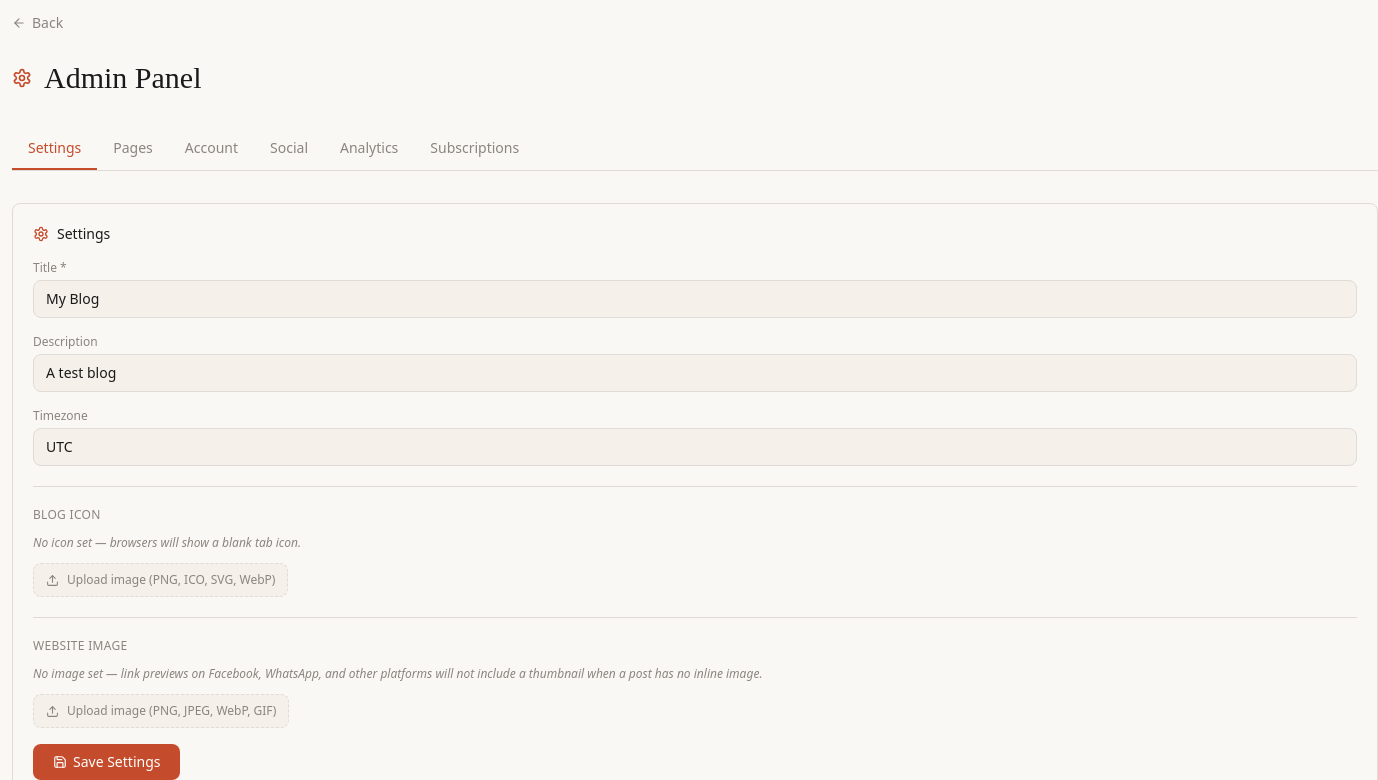
Test: AdminPage › validates title is required before saving site settings
The image size is (1378, 780).
Clear the field labelled "Title *" at (695, 299), box [33,280,1357,318]
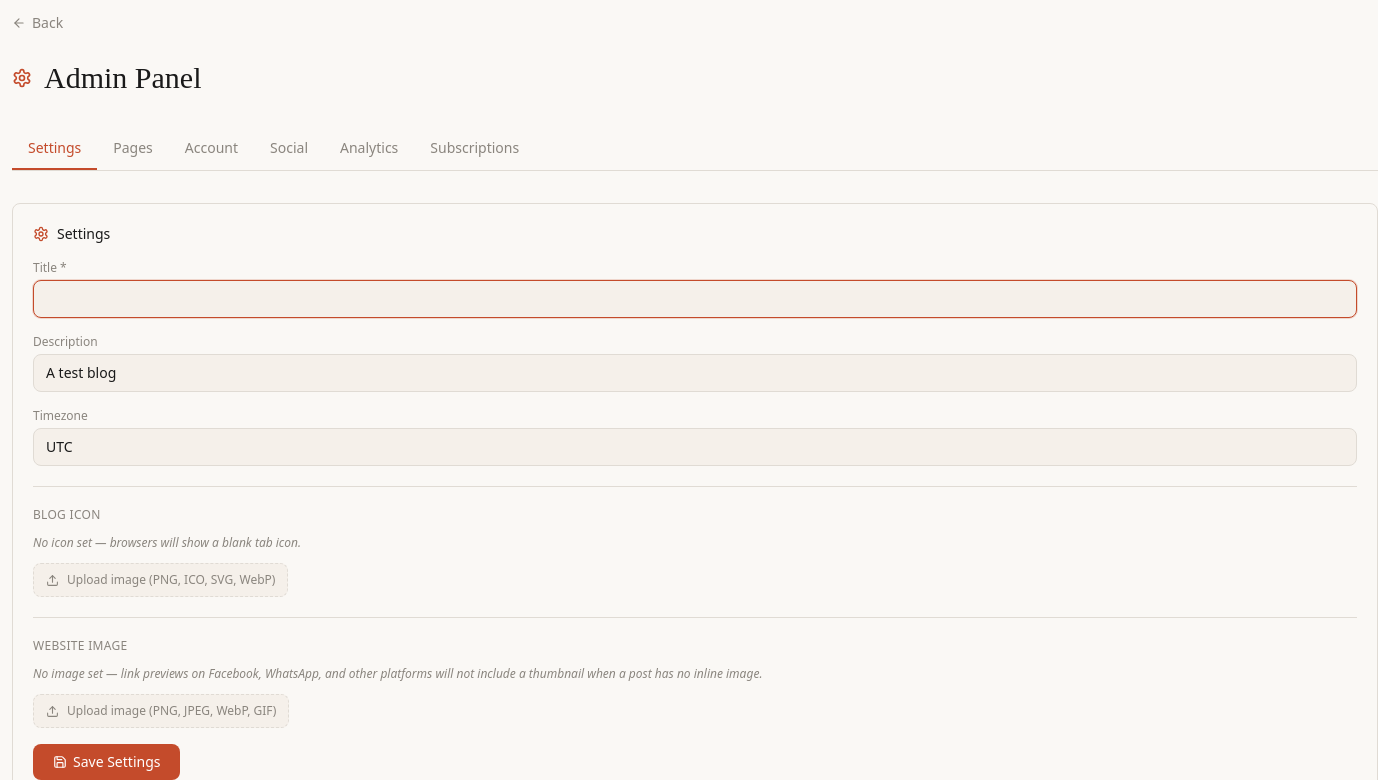
Click the button "Save Settings" at (107, 762), box [33,744,180,779]
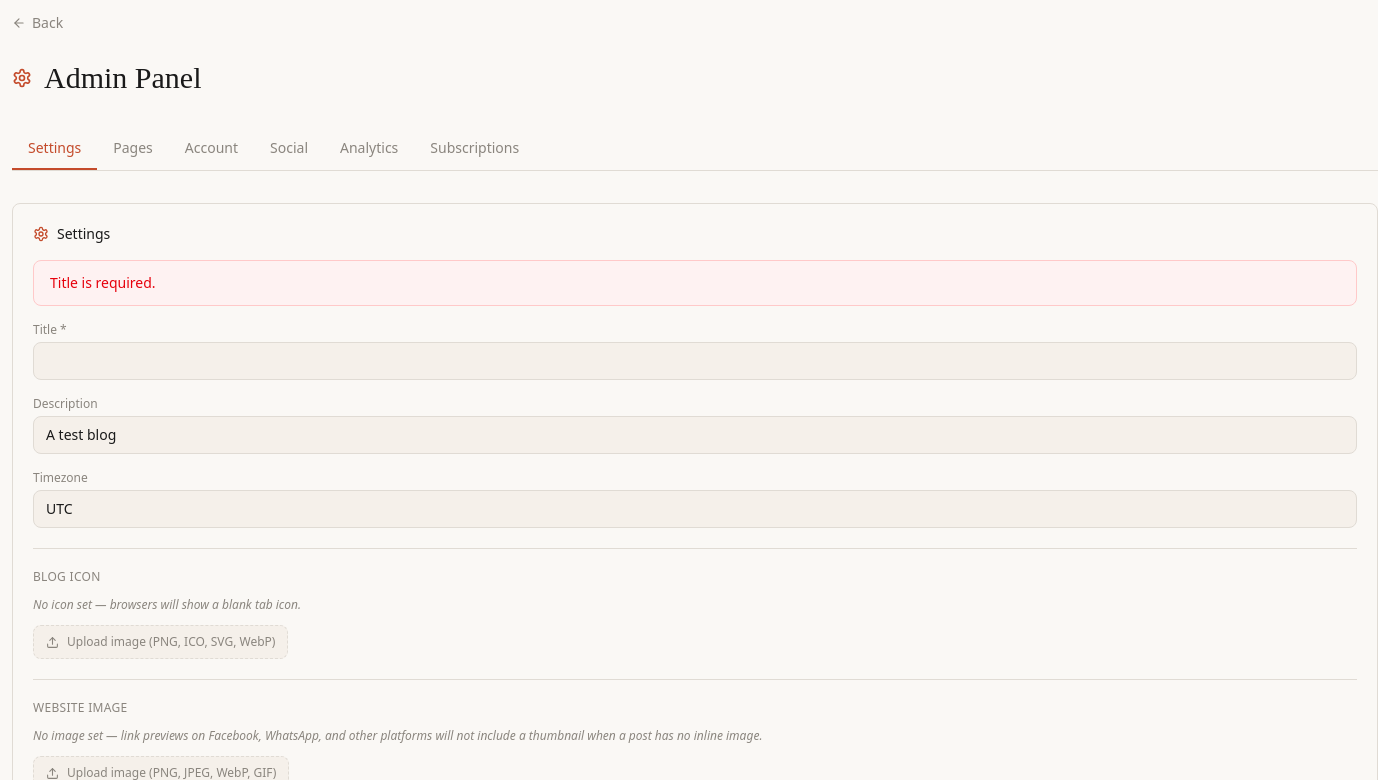
Check: the text "Title is required." is shown, box [33,260,1357,306]
